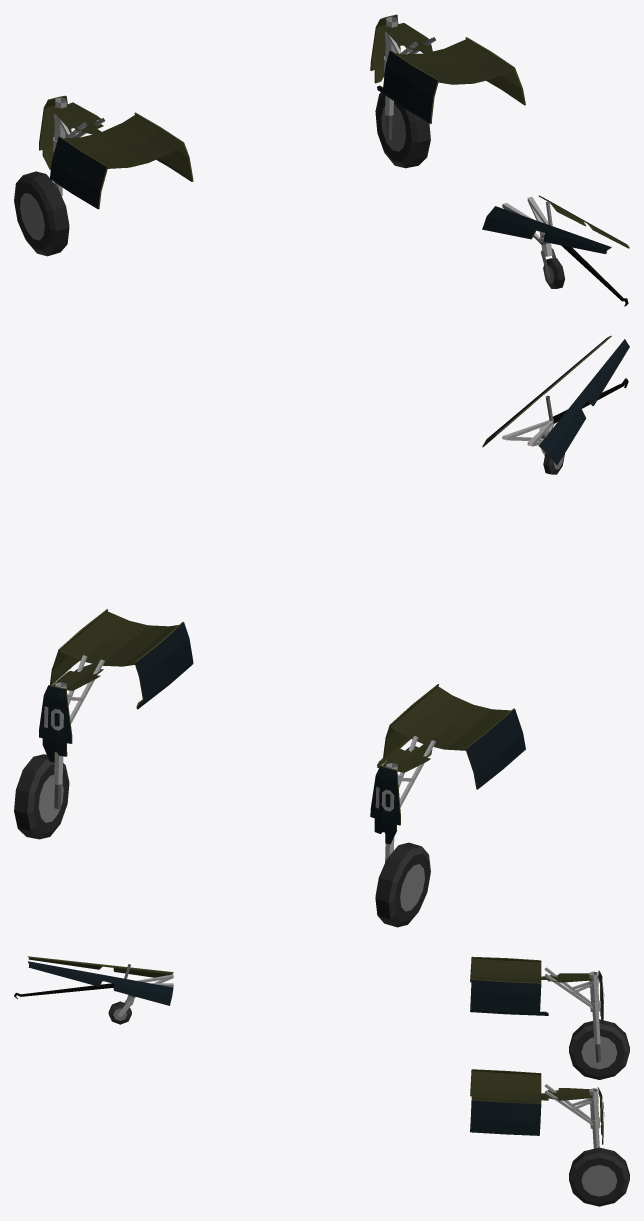
The model's file is Gear_F4U.obj.
The picture shows the model from 3 angles, top to bottom: view 1: azimuth 30°, elevation 25°; view 2: azimuth 150°, elevation 25°; view 3: azimuth 270°, elevation 25°; orthographic projection. The views are drawn at different scales.
Visible parts, largest first — view 1: ShapeIndexedFaceSet.131_ShapeIndexedFaceSet.132, ShapeIndexedFaceSet.122_ShapeIndexedFaceSet.123, ShapeIndexedFaceSet.129_ShapeIndexedFaceSet.130, ShapeIndexedFaceSet.132_ShapeIndexedFaceSet.133, ShapeIndexedFaceSet.105_ShapeIndexedFaceSet.106, ShapeIndexedFaceSet.108_ShapeIndexedFaceSet.109, ShapeIndexedFaceSet.101_ShapeIndexedFaceSet.102, ShapeIndexedFaceSet.119_ShapeIndexedFaceSet.120, ShapeIndexedFaceSet.126_ShapeIndexedFaceSet.127, ShapeIndexedFaceSet.128_ShapeIndexedFaceSet.129, ShapeIndexedFaceSet.107_ShapeIndexedFaceSet.108, ShapeIndexedFaceSet.112_ShapeIndexedFaceSet.113 (+9 smaller); view 2: ShapeIndexedFaceSet.131_ShapeIndexedFaceSet.132, ShapeIndexedFaceSet.129_ShapeIndexedFaceSet.130, ShapeIndexedFaceSet.122_ShapeIndexedFaceSet.123, ShapeIndexedFaceSet.132_ShapeIndexedFaceSet.133, ShapeIndexedFaceSet.111_ShapeIndexedFaceSet.112, ShapeIndexedFaceSet.100_ShapeIndexedFaceSet.101, ShapeIndexedFaceSet.105_ShapeIndexedFaceSet.106, ShapeIndexedFaceSet.116_ShapeIndexedFaceSet.117, ShapeIndexedFaceSet.108_ShapeIndexedFaceSet.109, ShapeIndexedFaceSet.119_ShapeIndexedFaceSet.120, ShapeIndexedFaceSet.107_ShapeIndexedFaceSet.108; view 3: ShapeIndexedFaceSet.131_ShapeIndexedFaceSet.132, ShapeIndexedFaceSet.124_ShapeIndexedFaceSet.125, ShapeIndexedFaceSet.127_ShapeIndexedFaceSet.128, ShapeIndexedFaceSet.134_ShapeIndexedFaceSet.135, ShapeIndexedFaceSet.119_ShapeIndexedFaceSet.120, ShapeIndexedFaceSet.108_ShapeIndexedFaceSet.109, ShapeIndexedFaceSet.118_ShapeIndexedFaceSet.119, ShapeIndexedFaceSet.107_ShapeIndexedFaceSet.108, ShapeIndexedFaceSet.133_ShapeIndexedFaceSet.134, ShapeIndexedFaceSet.106_ShapeIndexedFaceSet.107, ShapeIndexedFaceSet.117_ShapeIndexedFaceSet.118, ShapeIndexedFaceSet.102_ShapeIndexedFaceSet.103 (+5 smaller).
Part boxes in pixels (x1,y1,x2,y2): ShapeIndexedFaceSet.131_ShapeIndexedFaceSet.132: (51, 23, 513, 168); ShapeIndexedFaceSet.122_ShapeIndexedFaceSet.123: (50, 137, 106, 208); ShapeIndexedFaceSet.129_ShapeIndexedFaceSet.130: (377, 51, 437, 123); ShapeIndexedFaceSet.132_ShapeIndexedFaceSet.133: (482, 206, 610, 253); ShapeIndexedFaceSet.105_ShapeIndexedFaceSet.106: (23, 171, 69, 255); ShapeIndexedFaceSet.108_ShapeIndexedFaceSet.109: (14, 182, 50, 250); ShapeIndexedFaceSet.101_ShapeIndexedFaceSet.102: (39, 95, 71, 169); ShapeIndexedFaceSet.119_ShapeIndexedFaceSet.120: (375, 94, 411, 162); ShapeIndexedFaceSet.126_ShapeIndexedFaceSet.127: (134, 112, 193, 181); ShapeIndexedFaceSet.128_ShapeIndexedFaceSet.129: (465, 37, 525, 105); ShapeIndexedFaceSet.107_ShapeIndexedFaceSet.108: (20, 193, 44, 240); ShapeIndexedFaceSet.112_ShapeIndexedFaceSet.113: (370, 14, 400, 83); ShapeIndexedFaceSet.131_ShapeIndexedFaceSet.132: (52, 611, 510, 772); ShapeIndexedFaceSet.129_ShapeIndexedFaceSet.130: (136, 622, 193, 708); ShapeIndexedFaceSet.122_ShapeIndexedFaceSet.123: (467, 709, 525, 789); ShapeIndexedFaceSet.132_ShapeIndexedFaceSet.133: (539, 339, 629, 464); ShapeIndexedFaceSet.111_ShapeIndexedFaceSet.112: (39, 685, 71, 762); ShapeIndexedFaceSet.100_ShapeIndexedFaceSet.101: (370, 766, 400, 844); ShapeIndexedFaceSet.105_ShapeIndexedFaceSet.106: (375, 842, 421, 927); ShapeIndexedFaceSet.116_ShapeIndexedFaceSet.117: (14, 754, 48, 839); ShapeIndexedFaceSet.108_ShapeIndexedFaceSet.109: (394, 853, 430, 921); ShapeIndexedFaceSet.119_ShapeIndexedFaceSet.120: (33, 765, 69, 833); ShapeIndexedFaceSet.107_ShapeIndexedFaceSet.108: (400, 864, 424, 911); ShapeIndexedFaceSet.131_ShapeIndexedFaceSet.132: (471, 958, 592, 1103); ShapeIndexedFaceSet.124_ShapeIndexedFaceSet.125: (470, 980, 548, 1015); ShapeIndexedFaceSet.127_ShapeIndexedFaceSet.128: (470, 1100, 541, 1135); ShapeIndexedFaceSet.134_ShapeIndexedFaceSet.135: (28, 961, 173, 1005); ShapeIndexedFaceSet.119_ShapeIndexedFaceSet.120: (573, 1158, 625, 1203); ShapeIndexedFaceSet.108_ShapeIndexedFaceSet.109: (573, 1029, 625, 1076); ShapeIndexedFaceSet.118_ShapeIndexedFaceSet.119: (581, 1165, 617, 1196); ShapeIndexedFaceSet.107_ShapeIndexedFaceSet.108: (581, 1036, 617, 1069); ShapeIndexedFaceSet.133_ShapeIndexedFaceSet.134: (28, 956, 173, 977); ShapeIndexedFaceSet.106_ShapeIndexedFaceSet.107: (569, 1023, 629, 1079); ShapeIndexedFaceSet.117_ShapeIndexedFaceSet.118: (569, 1152, 629, 1206); ShapeIndexedFaceSet.102_ShapeIndexedFaceSet.103: (589, 971, 600, 1044).
Bounding box in the file's own units: 45.75 × 25.69 × 78.56.
